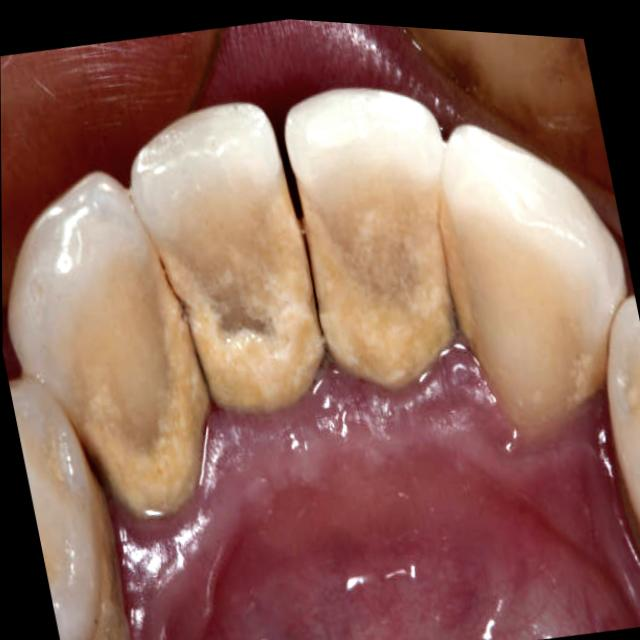calculus: (311, 241, 453, 387), (188, 291, 324, 411), (155, 293, 209, 498), (97, 450, 189, 515), (500, 367, 597, 426), (441, 199, 476, 338)
